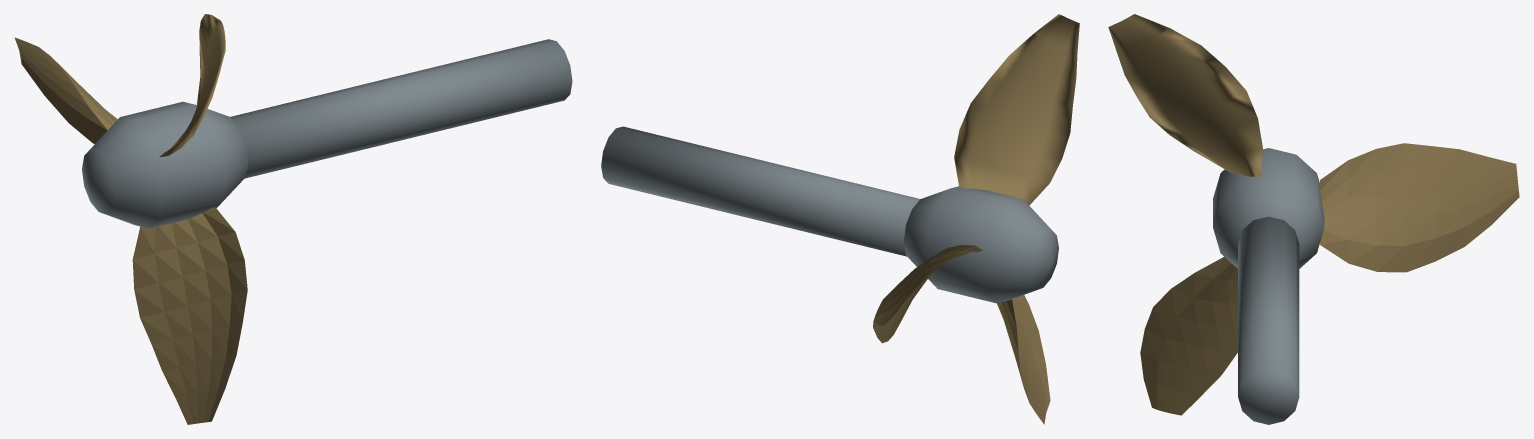
The model's file is PROP_T02_IMPROVED_LOD2.fbx.
3 renders of one model, left to right at view 1: azimuth 30°, elevation 25°; view 2: azimuth 150°, elevation 25°; view 3: azimuth 270°, elevation 25°, orthographic. The views are drawn at different scales.
Visible parts, largest first — view 1: PROP_T02_IMPROVED_LOD2_Shaft.001, PROP_T02_IMPROVED_LOD2_Blade_02.001, PROP_T02_IMPROVED_LOD2_Hub.001, PROP_T02_IMPROVED_LOD2_Blade_00.001, PROP_T02_IMPROVED_LOD2_Blade_01.001; view 2: PROP_T02_IMPROVED_LOD2_Shaft.001, PROP_T02_IMPROVED_LOD2_Blade_01.001, PROP_T02_IMPROVED_LOD2_Hub.001, PROP_T02_IMPROVED_LOD2_Blade_02.001, PROP_T02_IMPROVED_LOD2_Blade_00.001; view 3: PROP_T02_IMPROVED_LOD2_Blade_00.001, PROP_T02_IMPROVED_LOD2_Blade_01.001, PROP_T02_IMPROVED_LOD2_Shaft.001, PROP_T02_IMPROVED_LOD2_Blade_02.001, PROP_T02_IMPROVED_LOD2_Hub.001.
Part boxes in pixels (bbox=[...]): PROP_T02_IMPROVED_LOD2_Shaft.001: bbox=[230, 39, 572, 178]; PROP_T02_IMPROVED_LOD2_Blade_02.001: bbox=[132, 207, 247, 424]; PROP_T02_IMPROVED_LOD2_Hub.001: bbox=[82, 101, 248, 228]; PROP_T02_IMPROVED_LOD2_Blade_00.001: bbox=[14, 37, 117, 144]; PROP_T02_IMPROVED_LOD2_Blade_01.001: bbox=[159, 14, 225, 157]; PROP_T02_IMPROVED_LOD2_Shaft.001: bbox=[601, 126, 919, 256]; PROP_T02_IMPROVED_LOD2_Blade_01.001: bbox=[954, 14, 1079, 205]; PROP_T02_IMPROVED_LOD2_Hub.001: bbox=[903, 186, 1058, 303]; PROP_T02_IMPROVED_LOD2_Blade_02.001: bbox=[997, 295, 1050, 424]; PROP_T02_IMPROVED_LOD2_Blade_00.001: bbox=[873, 245, 982, 343]; PROP_T02_IMPROVED_LOD2_Blade_00.001: bbox=[1320, 143, 1519, 272]; PROP_T02_IMPROVED_LOD2_Blade_01.001: bbox=[1108, 14, 1262, 176]; PROP_T02_IMPROVED_LOD2_Shaft.001: bbox=[1238, 216, 1299, 424]; PROP_T02_IMPROVED_LOD2_Blade_02.001: bbox=[1140, 257, 1237, 415]; PROP_T02_IMPROVED_LOD2_Hub.001: bbox=[1213, 148, 1324, 268].
Bounding box in the file's own units: 374 × 295 × 322.
